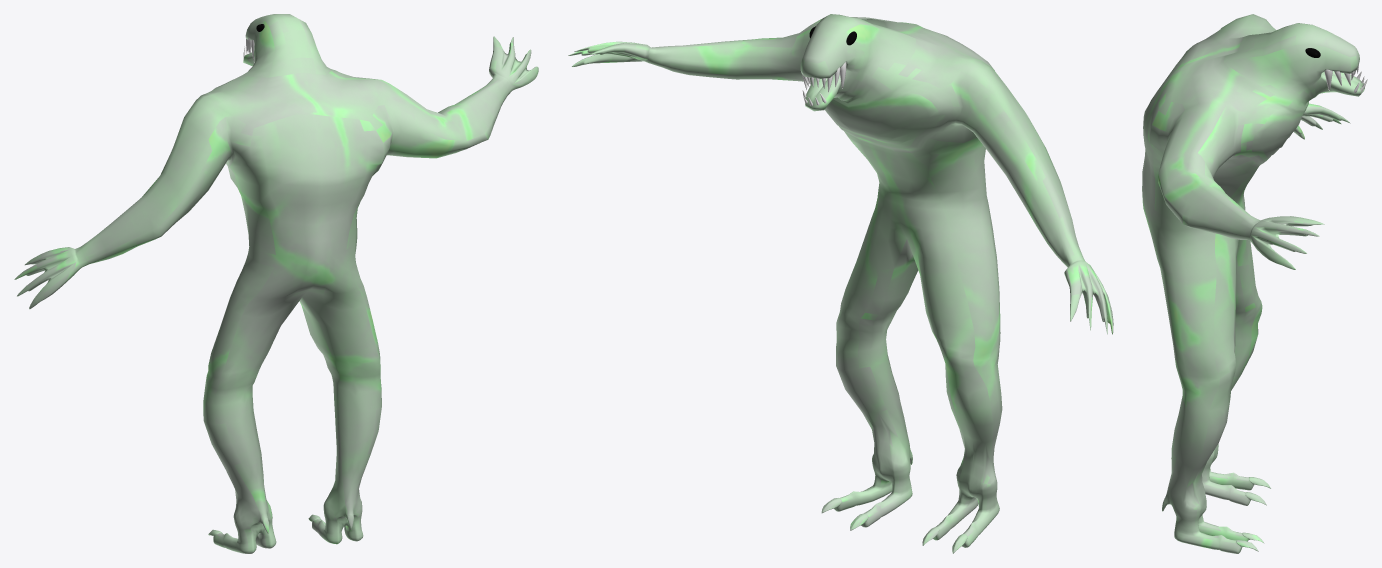
Rendered from Berserkeraranar.0026.obj.
The picture shows the model from 3 angles, left to right: view 1: azimuth 30°, elevation 25°; view 2: azimuth 150°, elevation 25°; view 3: azimuth 270°, elevation 25°; orthographic projection. The views are drawn at different scales.
Parts seen in each view (by area): view 1: polySurface27; view 2: polySurface27; view 3: polySurface27.
Boxes of the visible parts, left/top/right/bottom form: polySurface27: left=14, top=14, right=538, bottom=553; polySurface27: left=568, top=14, right=1113, bottom=553; polySurface27: left=1142, top=14, right=1367, bottom=553.
Bounding box in the file's own units: 25.41 × 23.54 × 9.35.
1 material, 1 textured.
